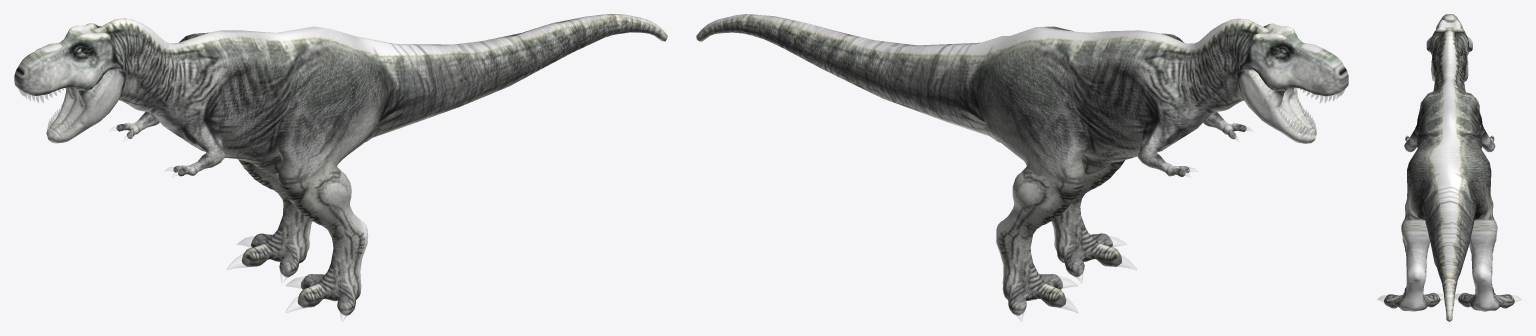
3 renders of one model, left to right at view 1: azimuth 30°, elevation 25°; view 2: azimuth 150°, elevation 25°; view 3: azimuth 270°, elevation 25°, orthographic. The views are drawn at different scales.
Parts seen in each view (by area): view 1: T-Rex Model; view 2: T-Rex Model; view 3: T-Rex Model.
Boxes of the visible parts, x1,y1,x2,y2 form: T-Rex Model: [14, 14, 667, 321]; T-Rex Model: [696, 14, 1348, 321]; T-Rex Model: [1377, 14, 1521, 321].
Size of the model in its own units: 198 by 89.91 by 55.48.
4 materials, 4 textured.
